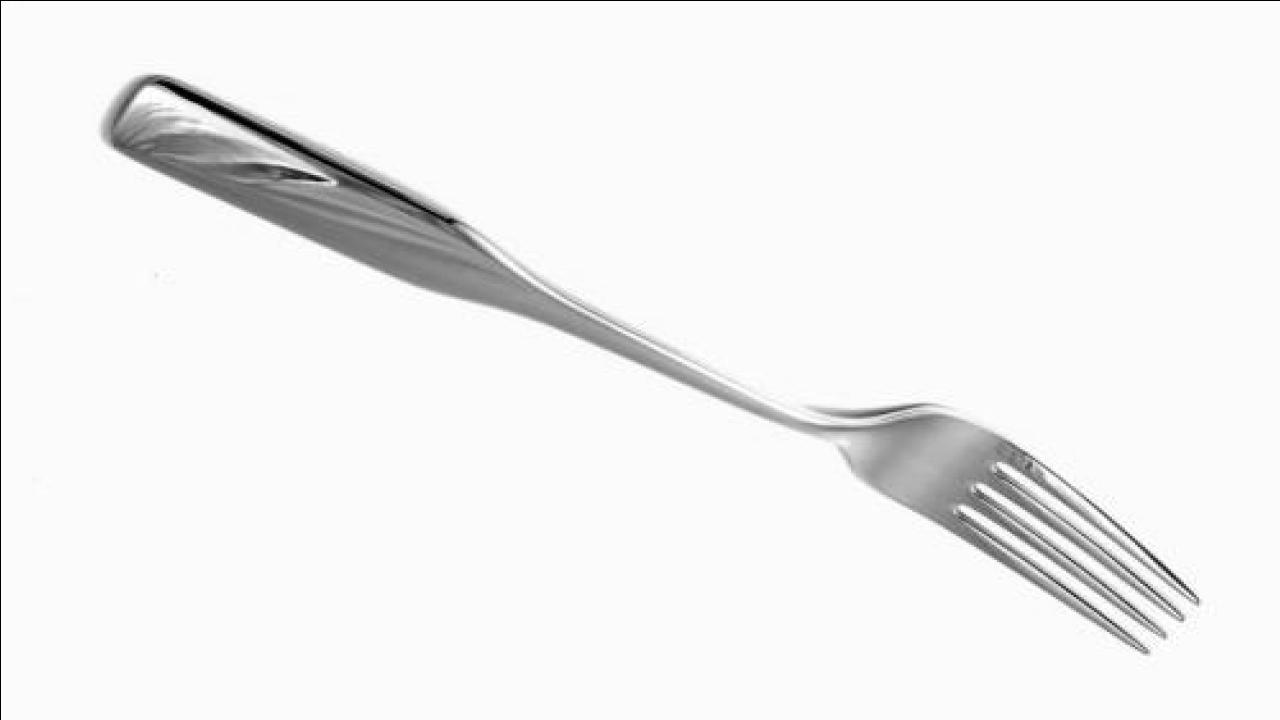fork: (105, 76, 1203, 657)
